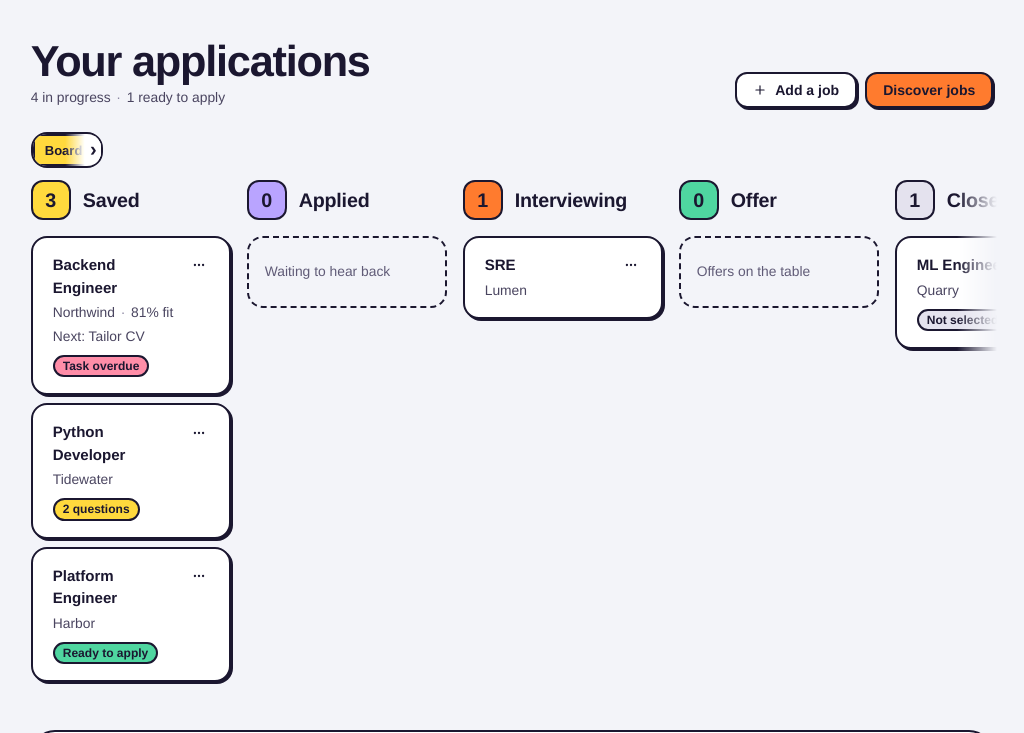
ApplicationsPage › follows a card moved to an off-screen column with focus, and then offers no redundant Show
Expected: the link "Backend Engineer" is shown, [53, 255, 117, 298]
Press Enter in the button named "Move Backend Engineer", box [181, 247, 217, 283]
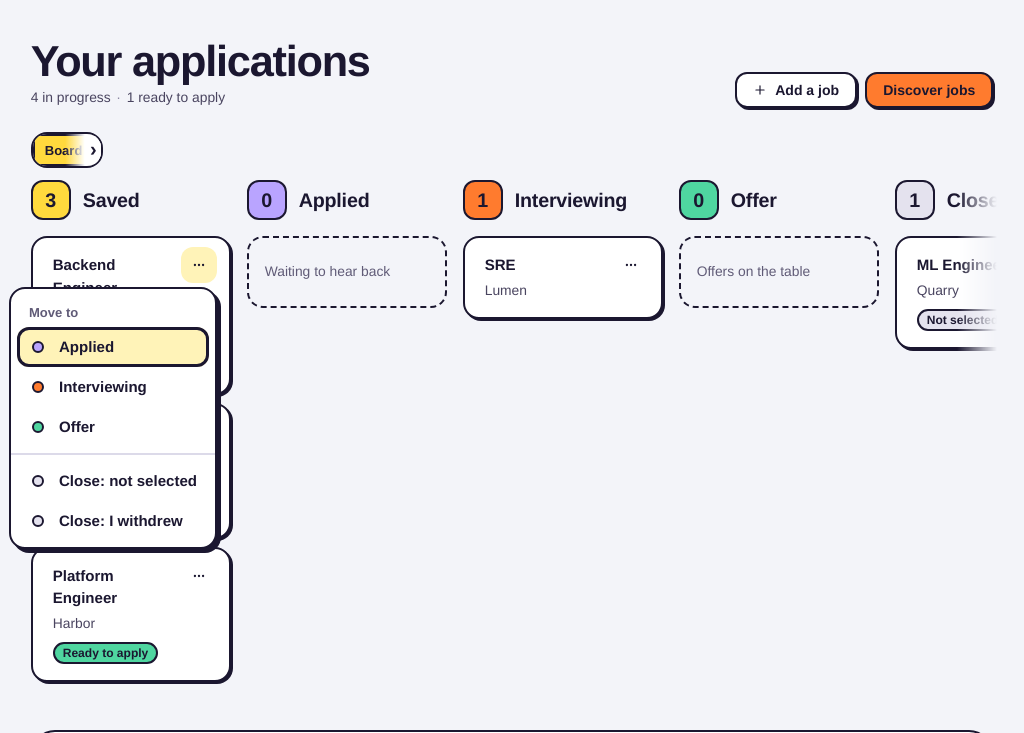
Click the menu item "Offer" at coordinates (64, 427), box [32, 417, 95, 437]
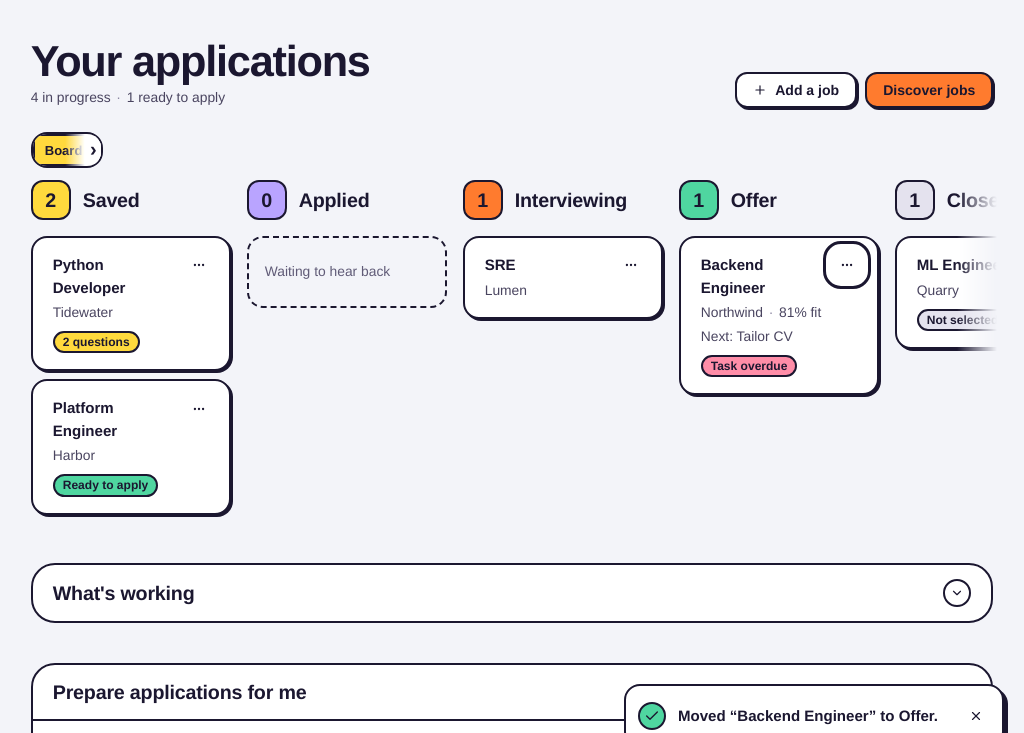
Expected: the text "Moved “Backend Engineer” to Offer." is shown, [678, 705, 946, 727]
